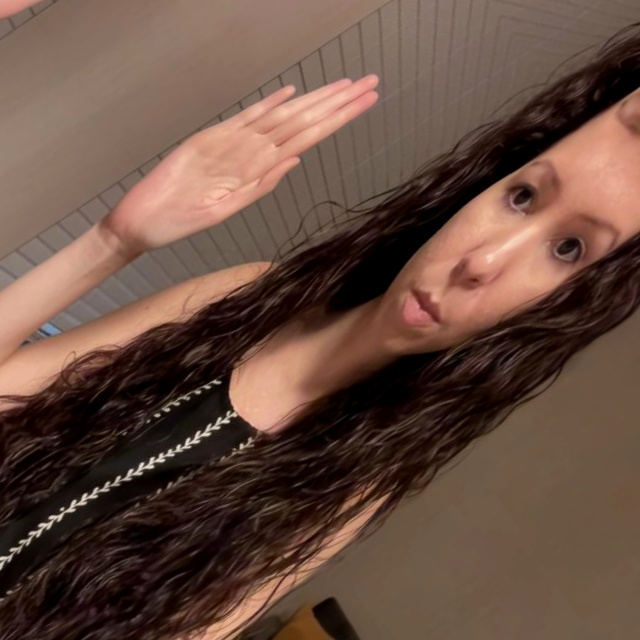Paper: (81, 22, 403, 282)
